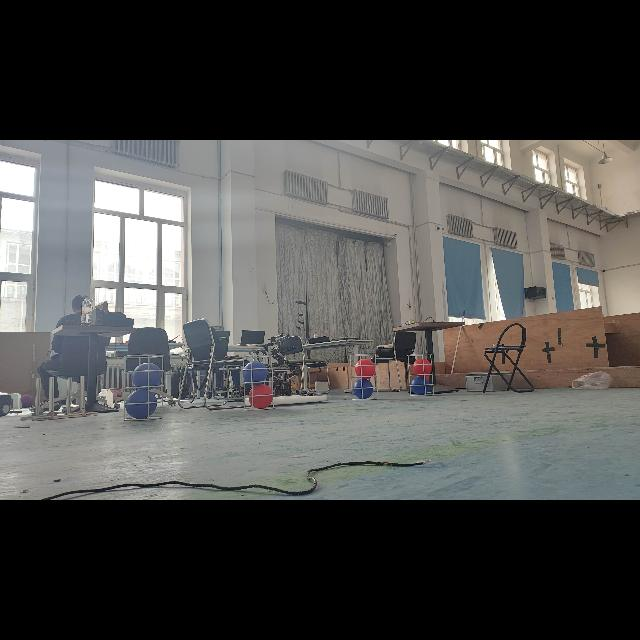B: (124, 389, 158, 419), (132, 362, 162, 392), (244, 361, 268, 385), (353, 379, 373, 399), (410, 376, 430, 396)
R: (248, 384, 274, 408), (412, 358, 433, 378), (355, 359, 375, 379)
S: (119, 352, 169, 422), (238, 353, 278, 413), (347, 351, 379, 403), (404, 350, 436, 398)
